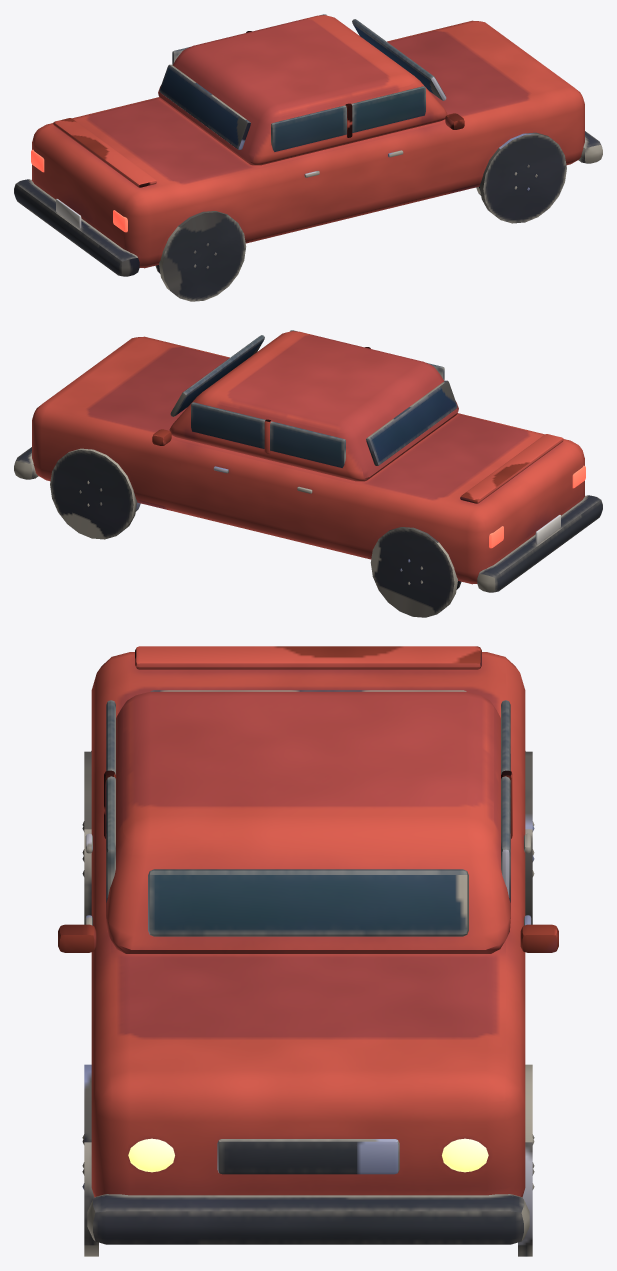
Rendered from car_sedan.glb.
3 views of the same model, one above another, from view 1: azimuth 30°, elevation 25°; view 2: azimuth 150°, elevation 25°; view 3: azimuth 270°, elevation 25° (orthographic). The views are drawn at different scales.
Parts seen in each view (by area): view 1: Body; view 2: Body; view 3: Body.
Boxes of the visible parts, <box> form: Body: <box>14,14,602,301</box>; Body: <box>14,330,602,617</box>; Body: <box>58,646,558,1256</box>.
Size of what is drawn, in the model's own units: 4.66 by 1.49 by 2.08.
4 materials, 2 textured.
